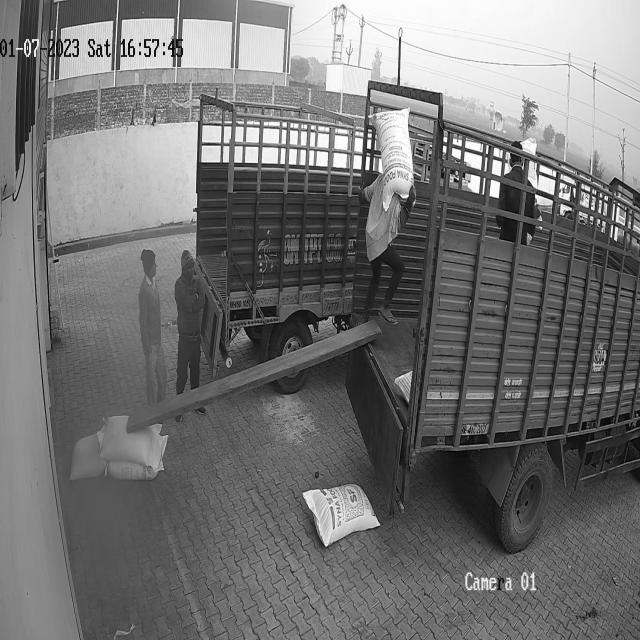sack: (368, 106, 414, 212), (303, 483, 379, 546), (99, 414, 161, 467), (104, 434, 167, 481), (67, 434, 108, 482)
